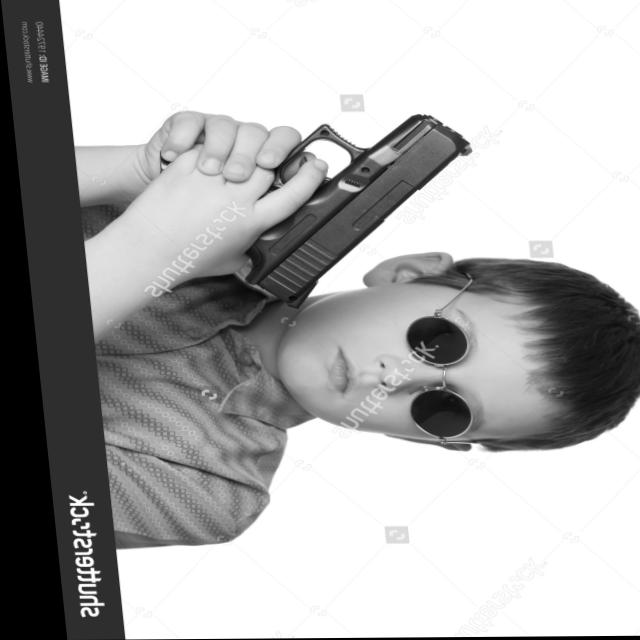handgun: (148, 111, 485, 315)
